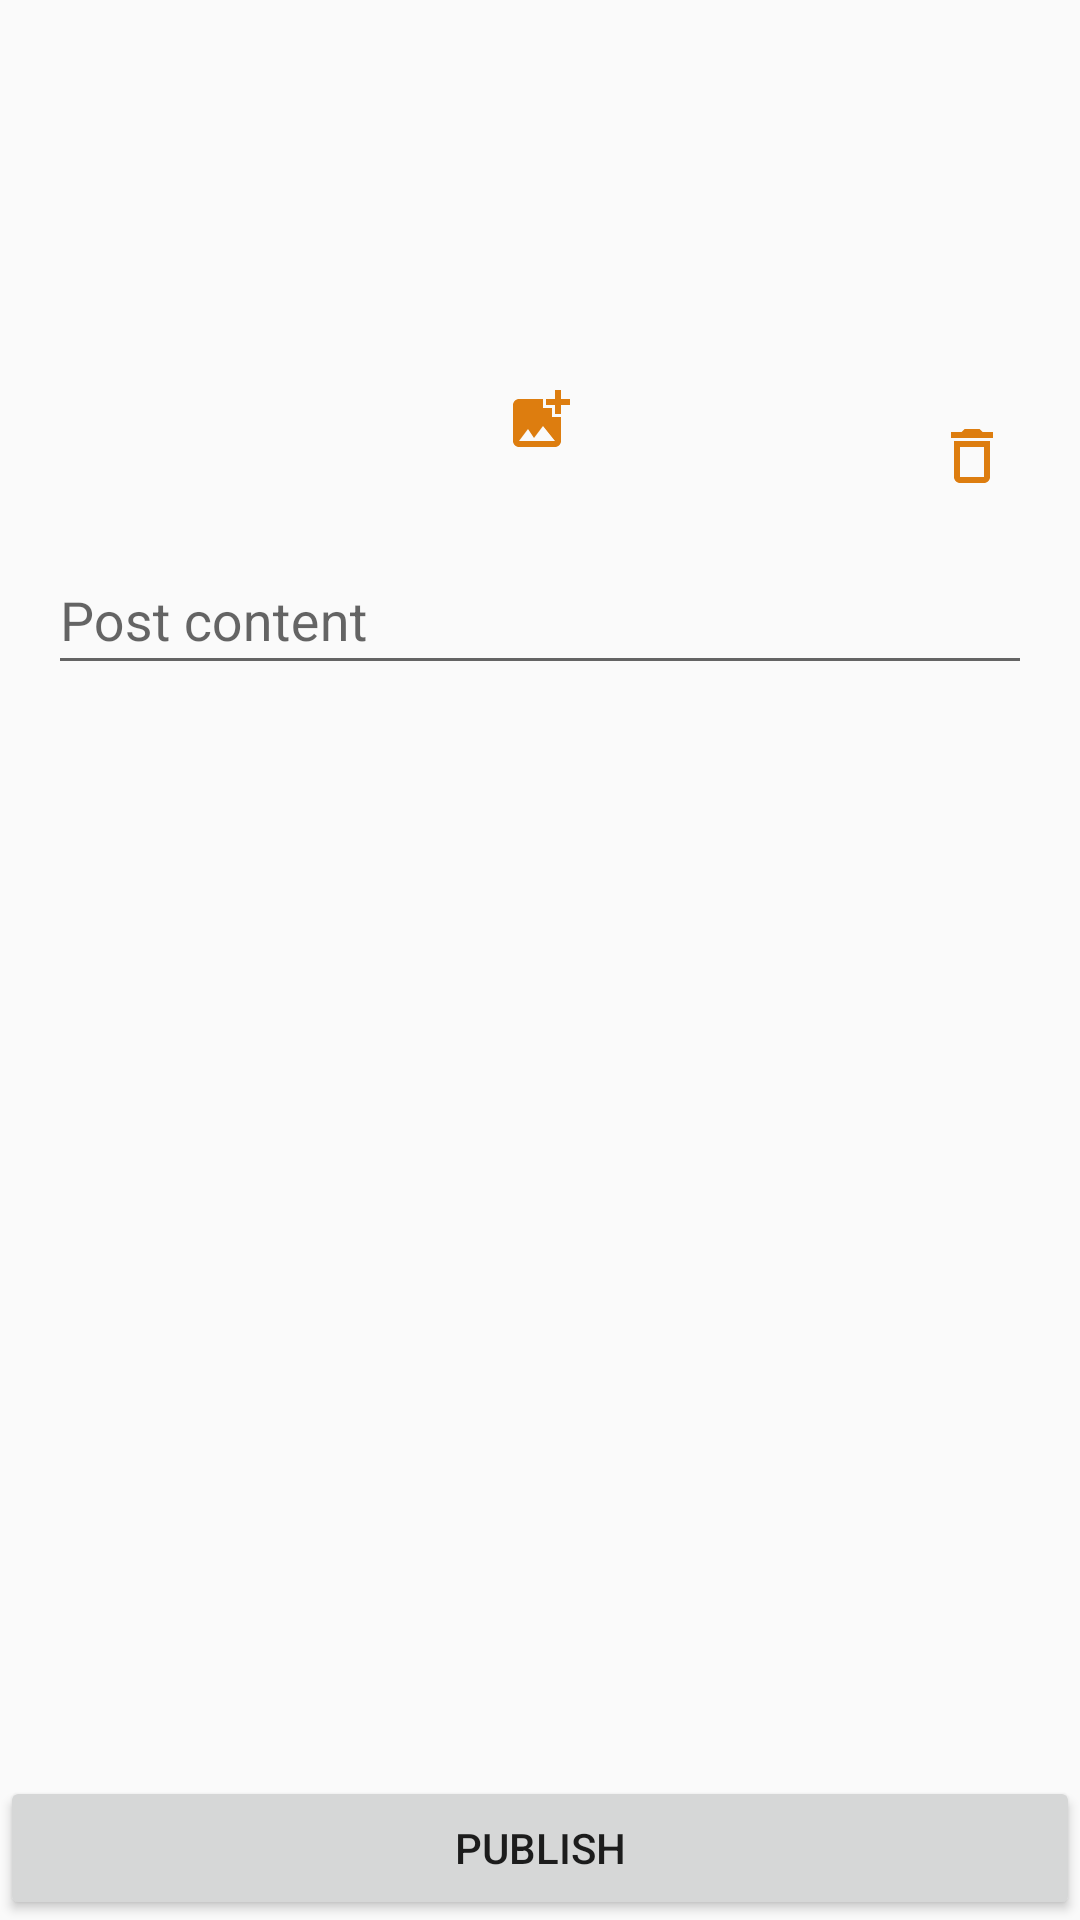

Where to tap for icons on this 1080*1920 app screen, as (x,y):
add photo: (541,418)
delete empty: (972,456)
